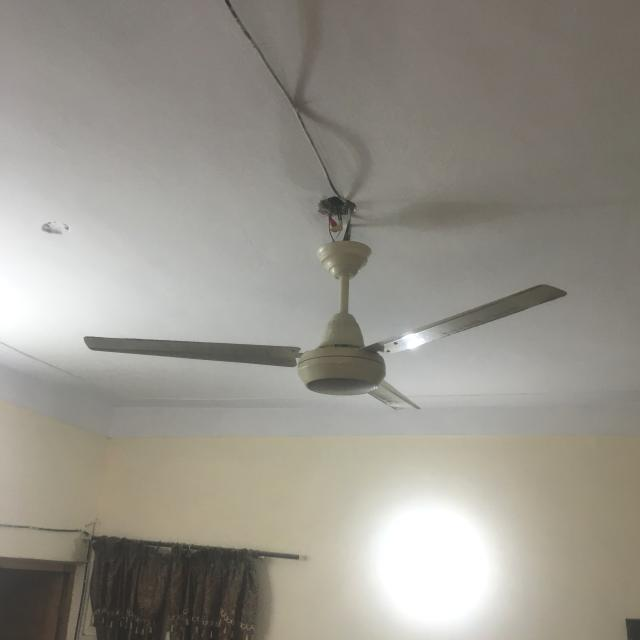off: (79, 274, 574, 419)
